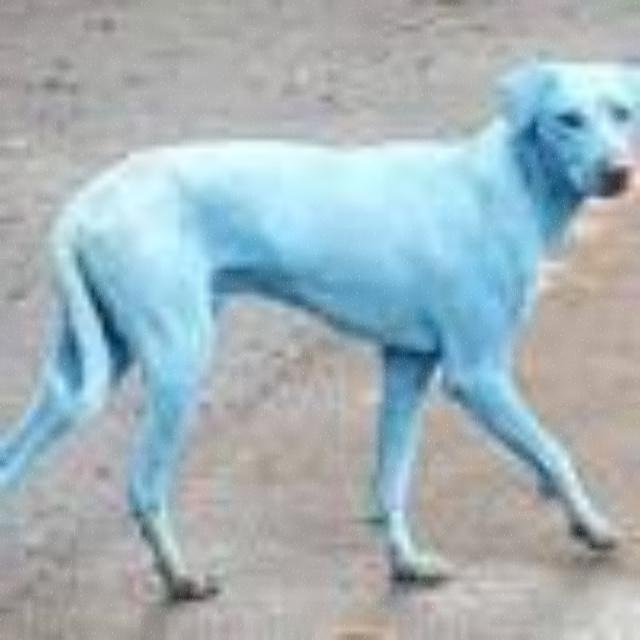dog: (1, 42, 640, 622)
